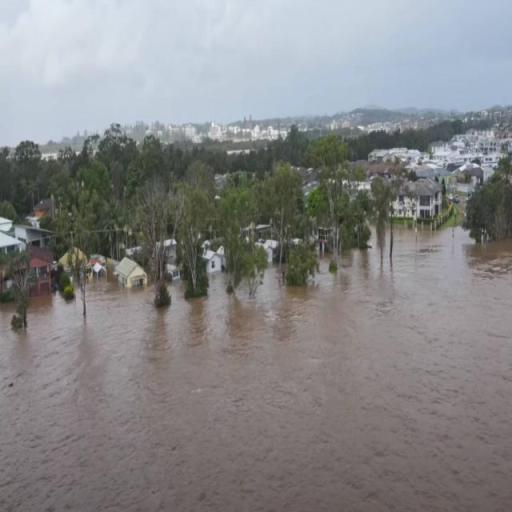flood: (0, 228, 512, 512)
house: (396, 174, 444, 228), (24, 244, 52, 302), (112, 257, 146, 294), (200, 242, 227, 274), (15, 223, 56, 244), (0, 232, 24, 252), (476, 136, 500, 154), (252, 126, 281, 140), (33, 198, 53, 218), (434, 150, 451, 168), (470, 168, 484, 186), (369, 149, 389, 161), (210, 122, 224, 139), (0, 216, 14, 231), (482, 157, 496, 172)
